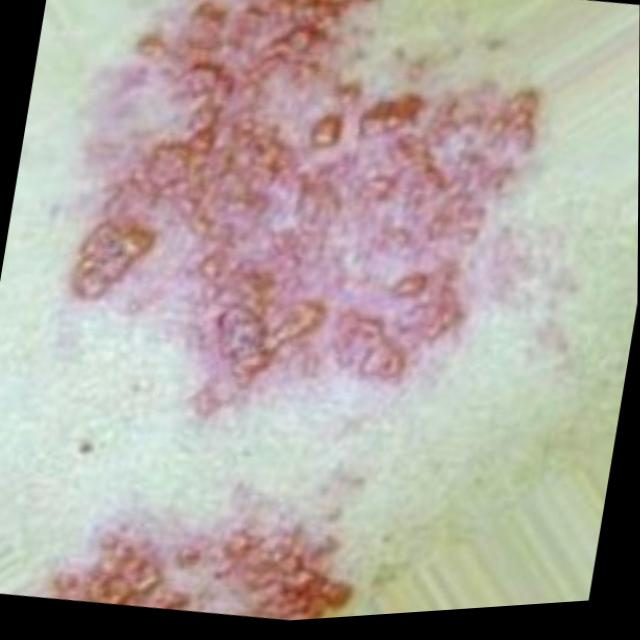Shingles: (42, 0, 561, 477), (45, 480, 356, 637)
